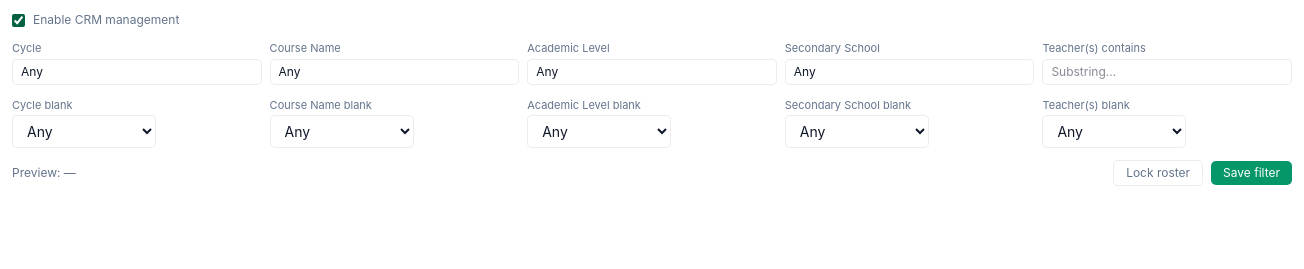
Test: CrmFilterPanel reconcile status › refreshes roster only after a successful terminal reconcile
Click the button "Save filter". click: (1252, 173)
box: [1211,161,1292,185]
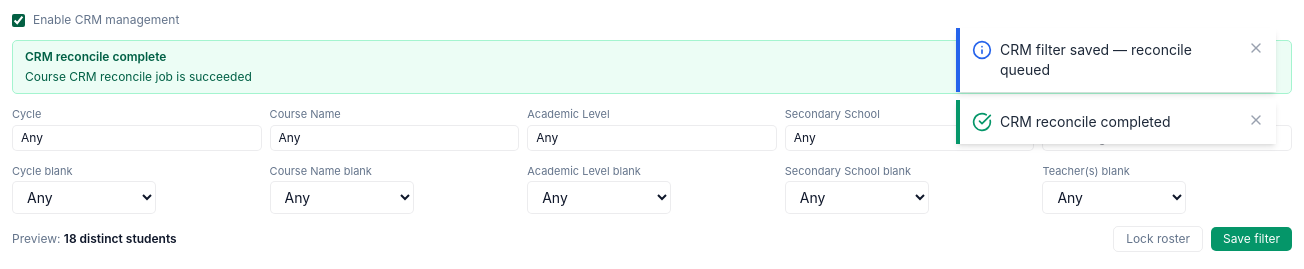
Result: the text "CRM reconcile complete" is shown at [25,49,166,64]
